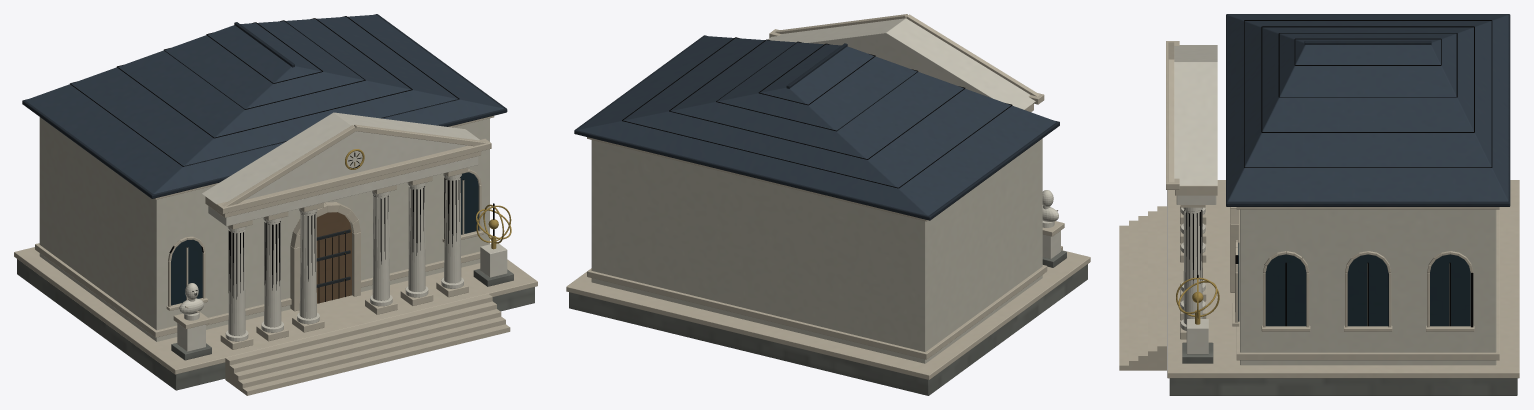
Rendered from Museum.fbx.
3 views of the same model, side by side, from view 1: azimuth 30°, elevation 25°; view 2: azimuth 150°, elevation 25°; view 3: azimuth 270°, elevation 25° (orthographic). The views are drawn at different scales.
Visible parts, largest first — view 1: Museum.001; view 2: Museum.001; view 3: Museum.001.
Part boxes in pixels (x1,y1,x2,y2): Museum.001: (14, 14, 537, 395); Museum.001: (566, 14, 1090, 395); Museum.001: (1119, 14, 1519, 395).
Bounding box in the file's own units: 13.93 × 8.7 × 12.19.
